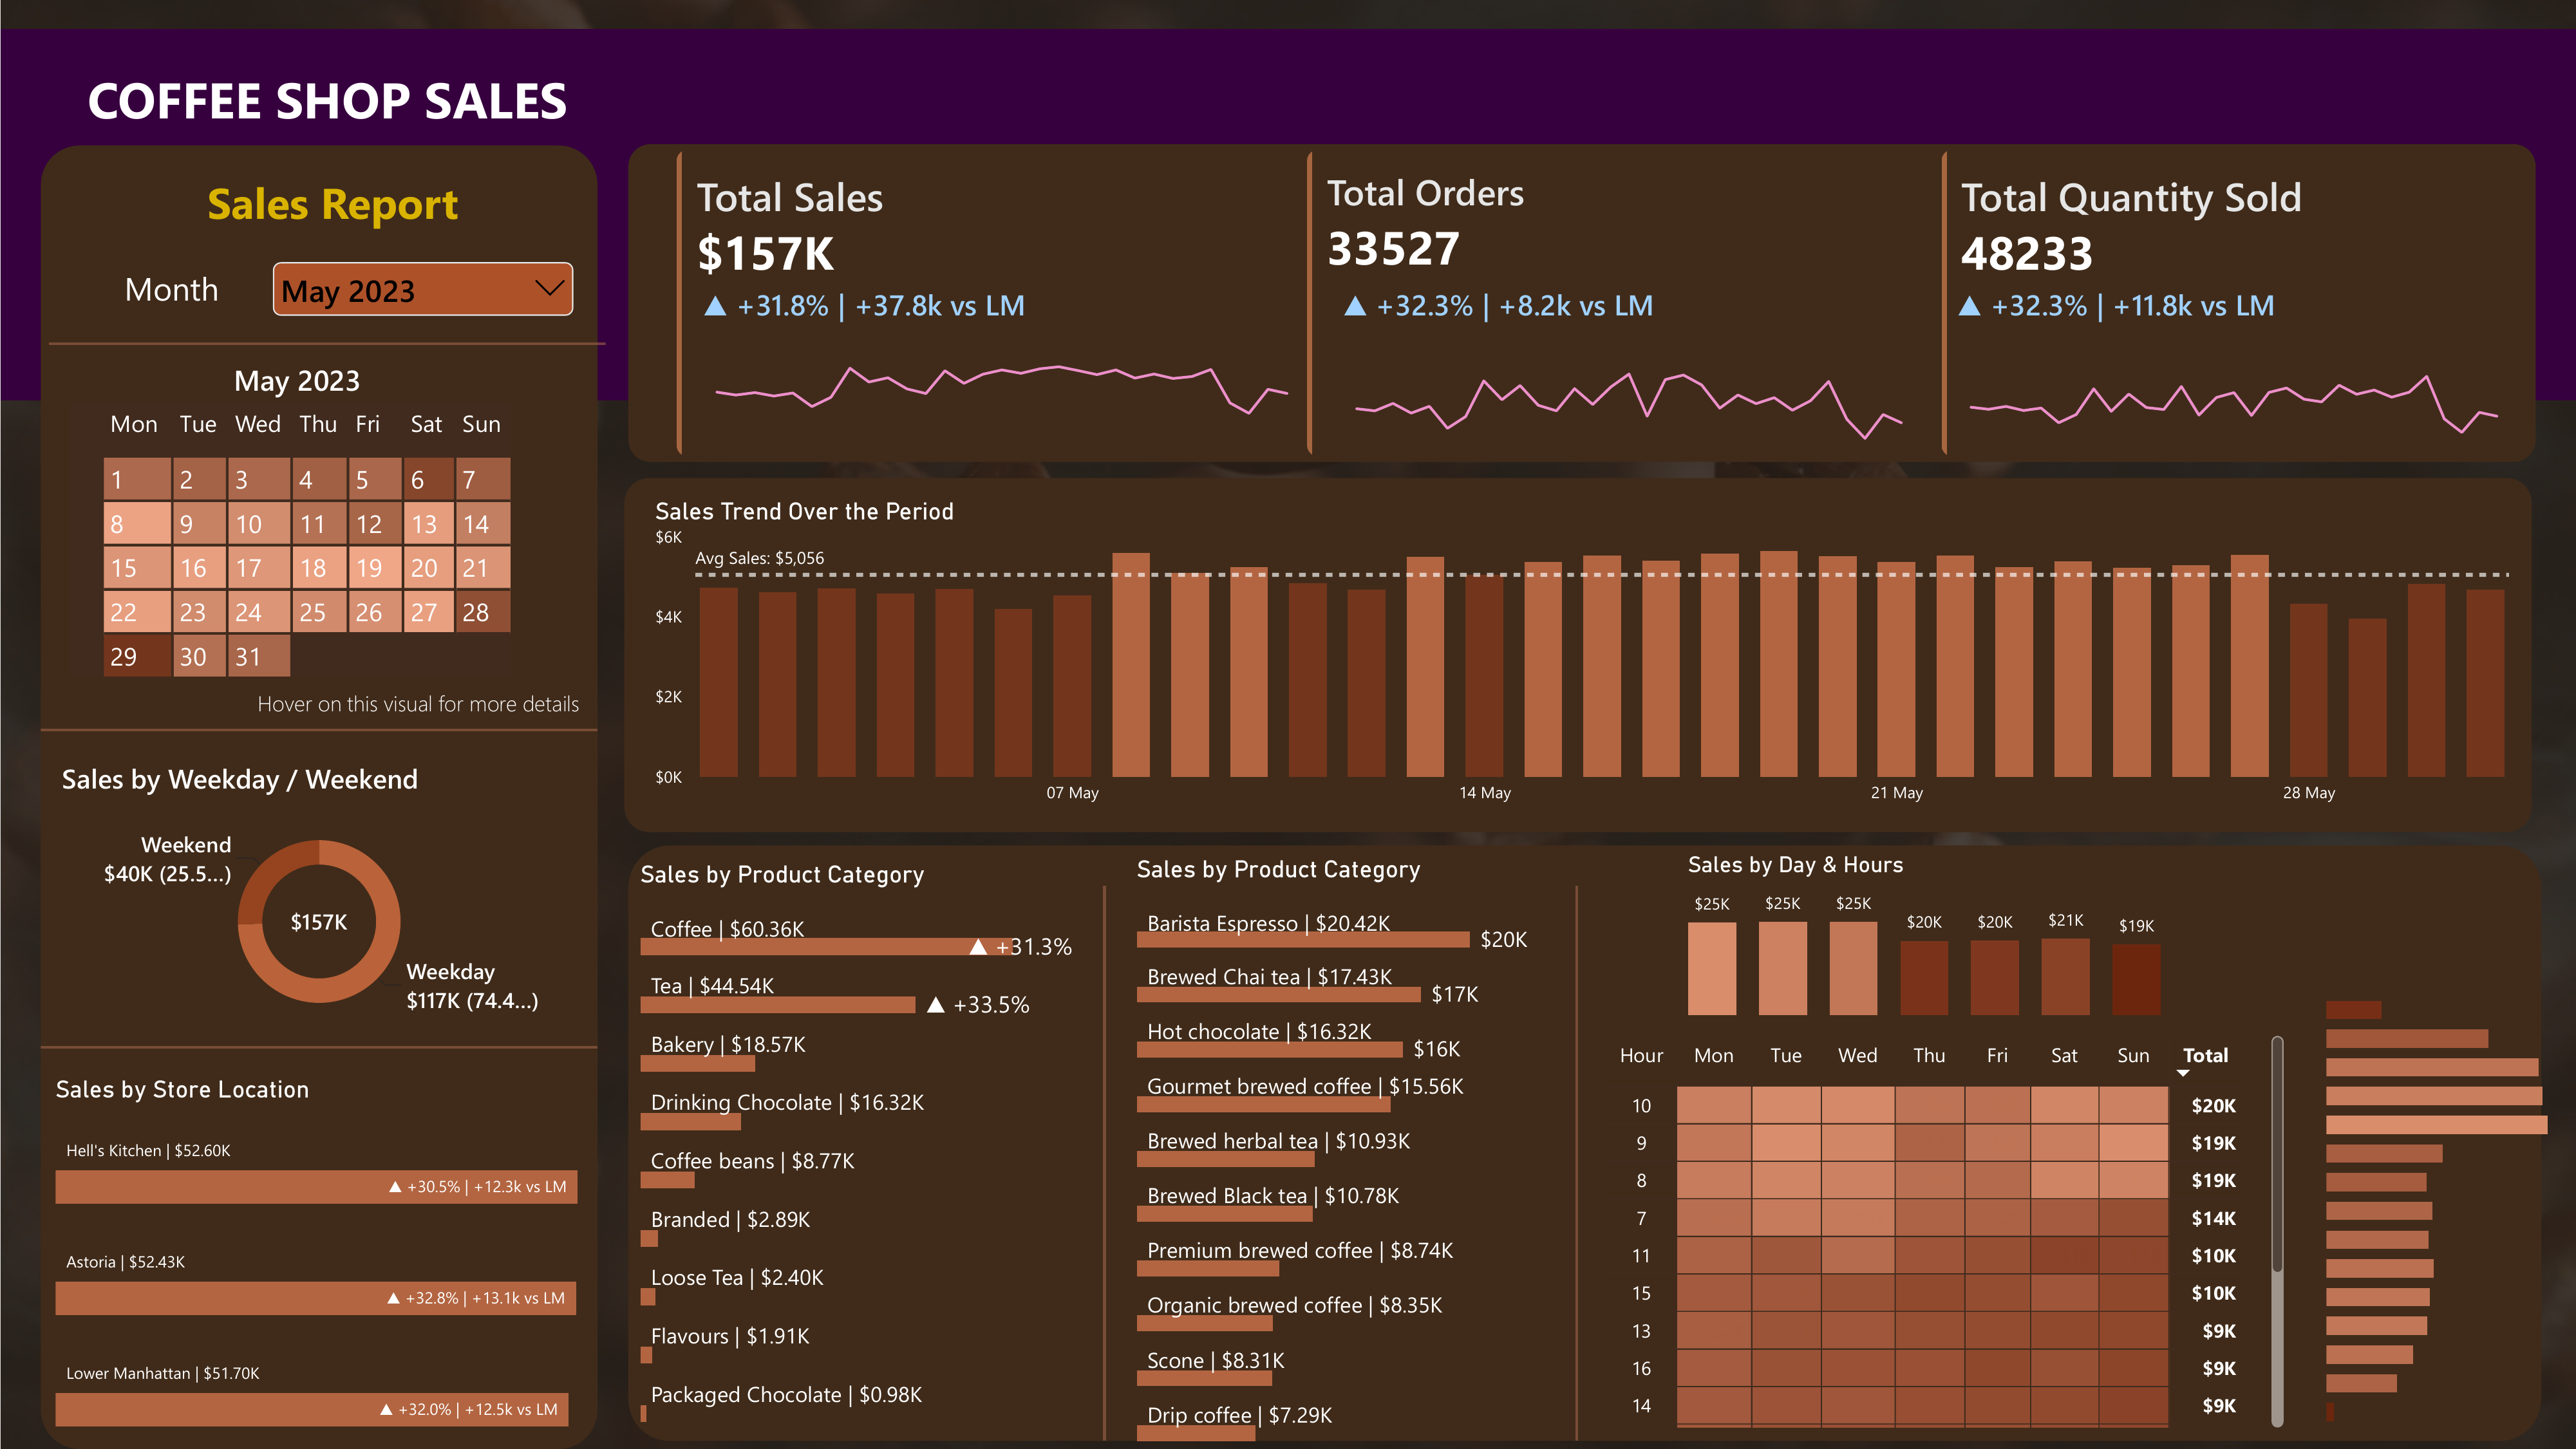

Layout of this report page (visuals, bound fields, positions):
{"tool":"powerbi","page":{"name":"Page 1","canvas":[1920,1080],"ordinal":0},"visuals":[{"type":"shape","box":[0,21.5,1920.7,276.8],"z":0},{"type":"shape","box":[30,107.5,415,972.5],"z":1000},{"type":"shape","box":[467.6,107.4,1422,236.2],"z":2000},{"type":"textbox","box":[65,47.5,379.3,60.1],"z":3000},{"type":"slicer","fields":{"Values":["Date Table.Month Year"]},"box":[198,190,234,66],"z":4000},{"type":"cardVisual","title":"Total Sales","fields":{"Data":["Transactions.Total Sales"]},"box":[489.1,107.4,470,236.2],"z":5000},{"type":"pivotTable","fields":{"Columns":["Date Table.Day Name"],"Rows":["Date Table.Week Number"],"Values":["Min(Date Table.Day Number)"]},"box":[36,286,372.5,265],"z":6000},{"type":"lineChart","fields":{"Category":["Date Table.Date.Variation.Date Hierarchy.Year","Date Table.Date.Variation.Date Hierarchy.Quarter","Date Table.Date.Variation.Date Hierarchy.Month","Date Table.Date.Variation.Date Hierarchy.Day"],"Y":["Transactions.Total Sales"]},"box":[508.2,198,477.2,145.5],"z":7000},{"type":"cardVisual","fields":{"Data":["Date Table.Foot Note"]},"box":[176,496,277.5,55],"z":8000},{"type":"cardVisual","title":"Total Sales","fields":{"Data":["Transactions.Total Orders"]},"box":[959.1,107.4,470,236.2],"z":9000},{"type":"shape","box":[36,226,415,60],"z":10000},{"type":"lineChart","fields":{"Category":["Date Table.Date.Variation.Date Hierarchy.Year","Date Table.Date.Variation.Date Hierarchy.Quarter","Date Table.Date.Variation.Date Hierarchy.Month","Date Table.Date.Variation.Date Hierarchy.Day"],"Y":["Transactions.Total Orders"]},"box":[985.4,198,458.1,145.5],"z":11000},{"type":"shape","box":[30,524,415,40],"z":12000},{"type":"cardVisual","title":"Total Sales","fields":{"Data":["Transactions.Total Quantity Sold"]},"box":[1431.5,107.4,455.7,236.2],"z":13000},{"type":"donutChart","title":"Sales by Weekday / Weekend","fields":{"Category":["Date Table.Weekday / Weekend"],"Y":["Transactions.Total Sales"]},"box":[30,552,415,227.5],"z":14000},{"type":"lineChart","fields":{"Category":["Date Table.Date.Variation.Date Hierarchy.Year","Date Table.Date.Variation.Date Hierarchy.Quarter","Date Table.Date.Variation.Date Hierarchy.Month","Date Table.Date.Variation.Date Hierarchy.Day"],"Y":["Transactions.Total Quantity Sold"]},"box":[1443.5,198,443.8,145.5],"z":15000},{"type":"cardVisual","fields":{"Data":["Min(Date Table.Month Year)"]},"box":[158,244,152.5,75],"z":16000},{"type":"shape","box":[30,764,415,32.5],"z":17000},{"type":"clusteredBarChart","title":"Sales by Store Location","fields":{"Category":["Transactions.store_location"],"Y":["Transactions.Placeholder","Transactions.Total Sales"]},"box":[36,796,454,278],"z":18000},{"type":"shape","box":[465.3,355.5,1422,264.8],"z":19000},{"type":"columnChart","title":"Sales Trend Over the Period","fields":{"Category":["Transactions.transaction_date"],"Y":["Transactions.Total Sales"]},"box":[472.4,355.5,1417.2,264.8],"z":20000},{"type":"shape","box":[468,630,1426,444],"z":21000},{"type":"clusteredBarChart","title":"Sales by Product Category","fields":{"Category":["Transactions.product_category"],"Y":["Transactions.Placeholder","Transactions.Total Sales"]},"box":[472,636,332,430],"z":22000},{"type":"shape","box":[804,660,38,414],"z":26000},{"type":"clusteredBarChart","title":"Sales by Product Category","fields":{"Category":["Transactions.product_type"],"Y":["Transactions.Placeholder","Transactions.Total Sales"]},"box":[842,632,314,448],"z":27000},{"type":"shape","box":[1156,660,38,414],"z":28000},{"type":"pivotTable","fields":{"Columns":["Date Table.Day Name"],"Rows":["Transactions.Hour"],"Values":["Transactions.Total Sales"]},"box":[1182,758,536,322],"z":29000},{"type":"clusteredBarChart","fields":{"Category":["Transactions.Hour"],"Y":["Transactions.Total Sales"]},"box":[1718,722,200,355],"z":30000},{"type":"clusteredColumnChart","title":"Sales by Day & Hours","fields":{"Category":["Date Table.Day Name"],"Y":["Transactions.Total Sales"]},"box":[1242,620,386,154],"z":31000},{"type":"textbox","box":[66,198,122,46],"z":32000},{"type":"textbox","box":[128,128,272,48],"z":33000}]}

Visuals, with their boxes in screenshot pixels (x1, y1, x2, y2), scaled from the page's 1920x1080 canvas onto the 2576x1449 screenshot:
shape: left=0, top=29, right=2575, bottom=400
shape: left=41, top=144, right=597, bottom=1448
shape: left=627, top=144, right=2535, bottom=461
textbox: left=87, top=64, right=596, bottom=144
slicer - Date Table.Month Year: left=266, top=255, right=579, bottom=344
"Total Sales" cardVisual: left=656, top=144, right=1287, bottom=461
pivotTable - Date Table.Day Name x Date Table.Week Number: left=48, top=384, right=548, bottom=739
lineChart - Date Table.Date.Variation.Date Hierarchy.Year x Date Table.Date.Variation.Date Hierarchy.Quarter: left=682, top=266, right=1322, bottom=461
cardVisual - Date Table.Foot Note: left=236, top=666, right=608, bottom=739
"Total Sales" cardVisual: left=1287, top=144, right=1917, bottom=461
shape: left=48, top=303, right=605, bottom=384
lineChart - Date Table.Date.Variation.Date Hierarchy.Year x Date Table.Date.Variation.Date Hierarchy.Quarter: left=1322, top=266, right=1937, bottom=461
shape: left=41, top=703, right=597, bottom=757
"Total Sales" cardVisual: left=1921, top=144, right=2532, bottom=461
"Sales by Weekday / Weekend" donutChart: left=41, top=741, right=597, bottom=1046
lineChart - Date Table.Date.Variation.Date Hierarchy.Year x Date Table.Date.Variation.Date Hierarchy.Quarter: left=1937, top=266, right=2532, bottom=461
cardVisual - Min(Date Table.Month Year): left=212, top=328, right=417, bottom=428
shape: left=41, top=1025, right=597, bottom=1069
"Sales by Store Location" clusteredBarChart: left=48, top=1068, right=657, bottom=1441
shape: left=625, top=477, right=2532, bottom=832
"Sales Trend Over the Period" columnChart: left=634, top=477, right=2535, bottom=832
shape: left=628, top=845, right=2541, bottom=1441
"Sales by Product Category" clusteredBarChart: left=634, top=854, right=1078, bottom=1430
shape: left=1078, top=886, right=1130, bottom=1441
"Sales by Product Category" clusteredBarChart: left=1130, top=848, right=1551, bottom=1448
shape: left=1551, top=886, right=1602, bottom=1441
pivotTable - Date Table.Day Name x Transactions.Hour: left=1586, top=1017, right=2305, bottom=1448
clusteredBarChart - Transactions.Hour x Transactions.Total Sales: left=2305, top=969, right=2573, bottom=1445
"Sales by Day & Hours" clusteredColumnChart: left=1666, top=832, right=2185, bottom=1038
textbox: left=89, top=266, right=252, bottom=328
textbox: left=172, top=172, right=537, bottom=236
